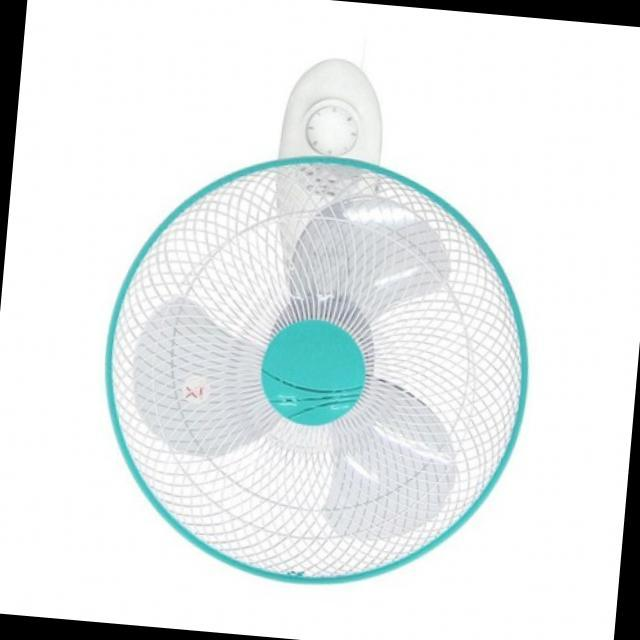fan: (79, 38, 558, 609)
